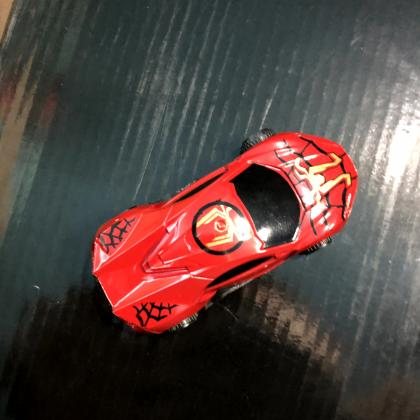Car: (90, 132, 359, 336)
